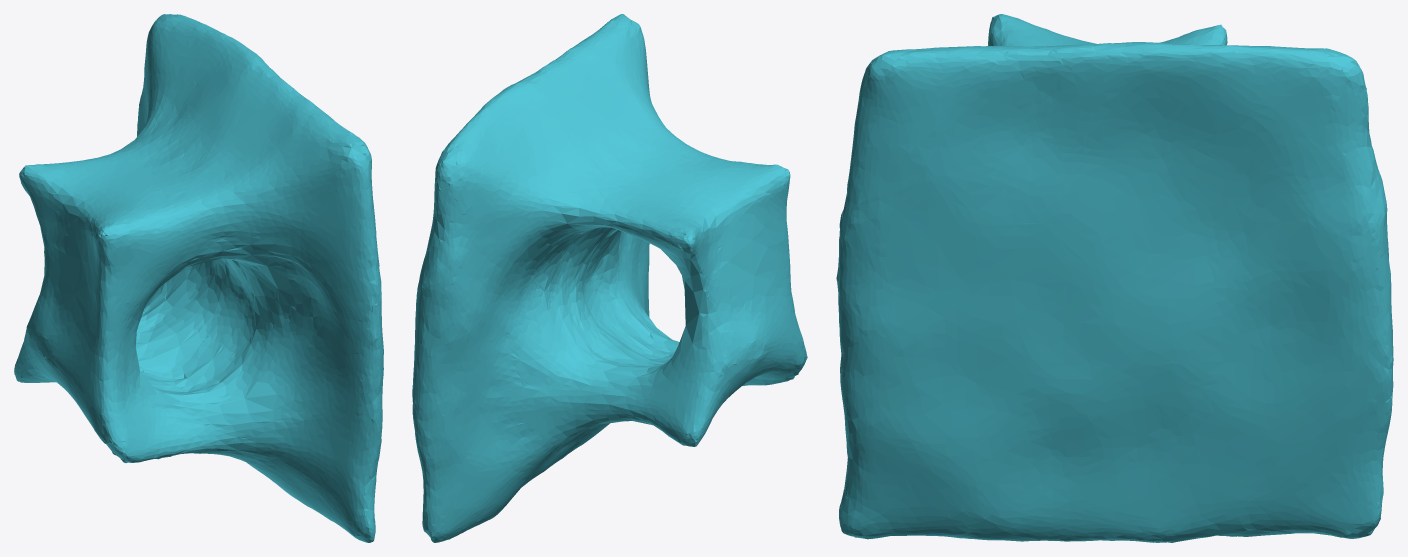
3 views of the same model, side by side, from view 1: azimuth 30°, elevation 25°; view 2: azimuth 150°, elevation 25°; view 3: azimuth 270°, elevation 25° (orthographic). The views are drawn at different scales.
Parts seen in each view (by area): view 1: Renderer Node; view 2: Renderer Node; view 3: Renderer Node.
Part boxes in pixels (left/top/right/bottom): Renderer Node: left=14, top=14, right=383, bottom=542; Renderer Node: left=412, top=14, right=807, bottom=542; Renderer Node: left=836, top=14, right=1393, bottom=542.
Size of the model in its own units: 0.3967 by 0.6281 by 0.6331.
Materials: 1 (1 with a texture image).
